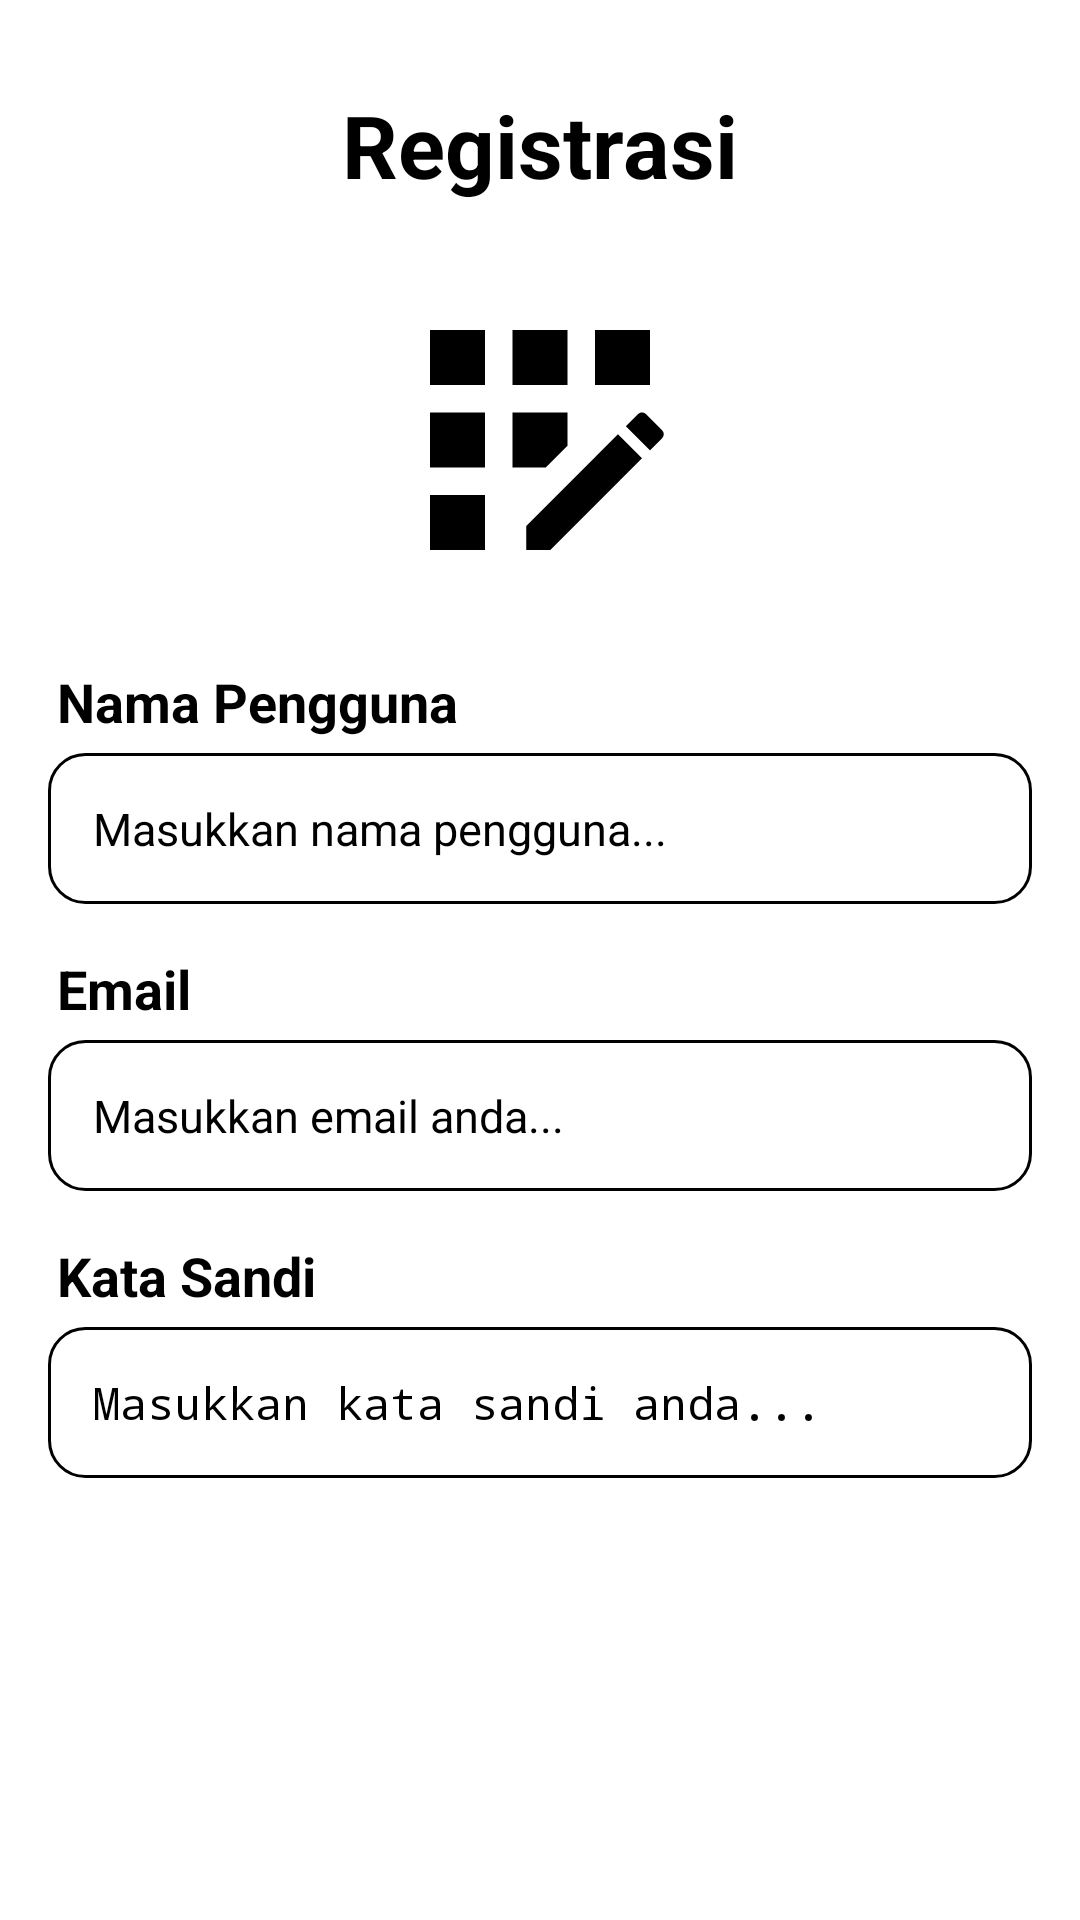

Where icons sit on this 1080w x 1920h app screen, as (x1, y1, x2, y2):
register: (430, 330, 664, 550)
